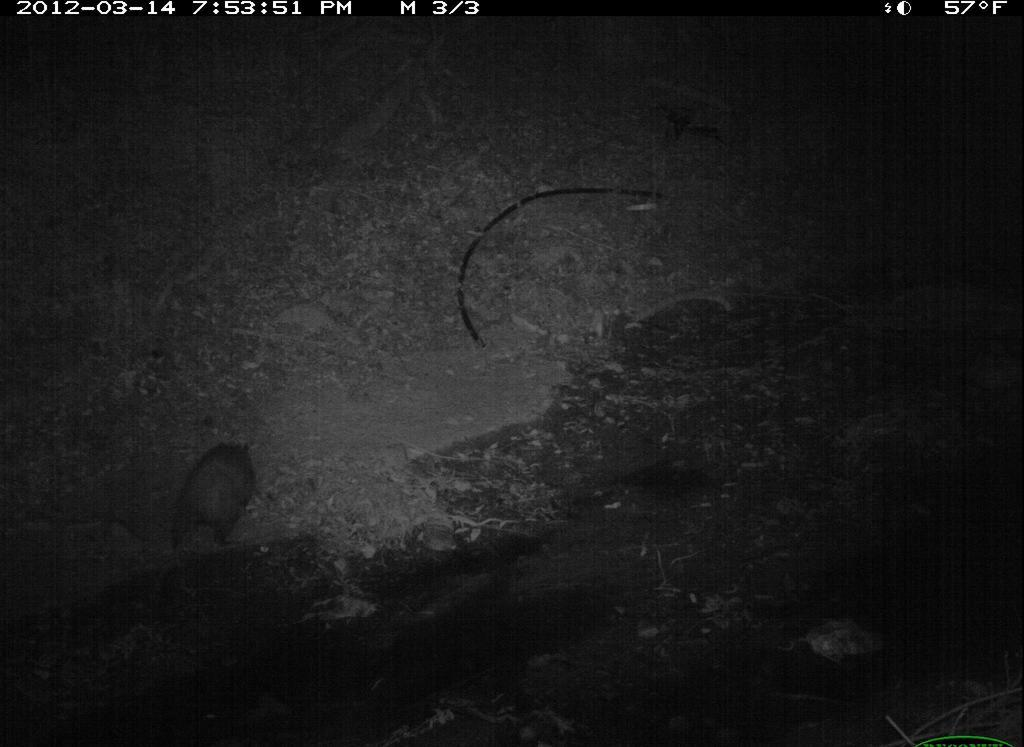opossum: (158, 432, 269, 588)
